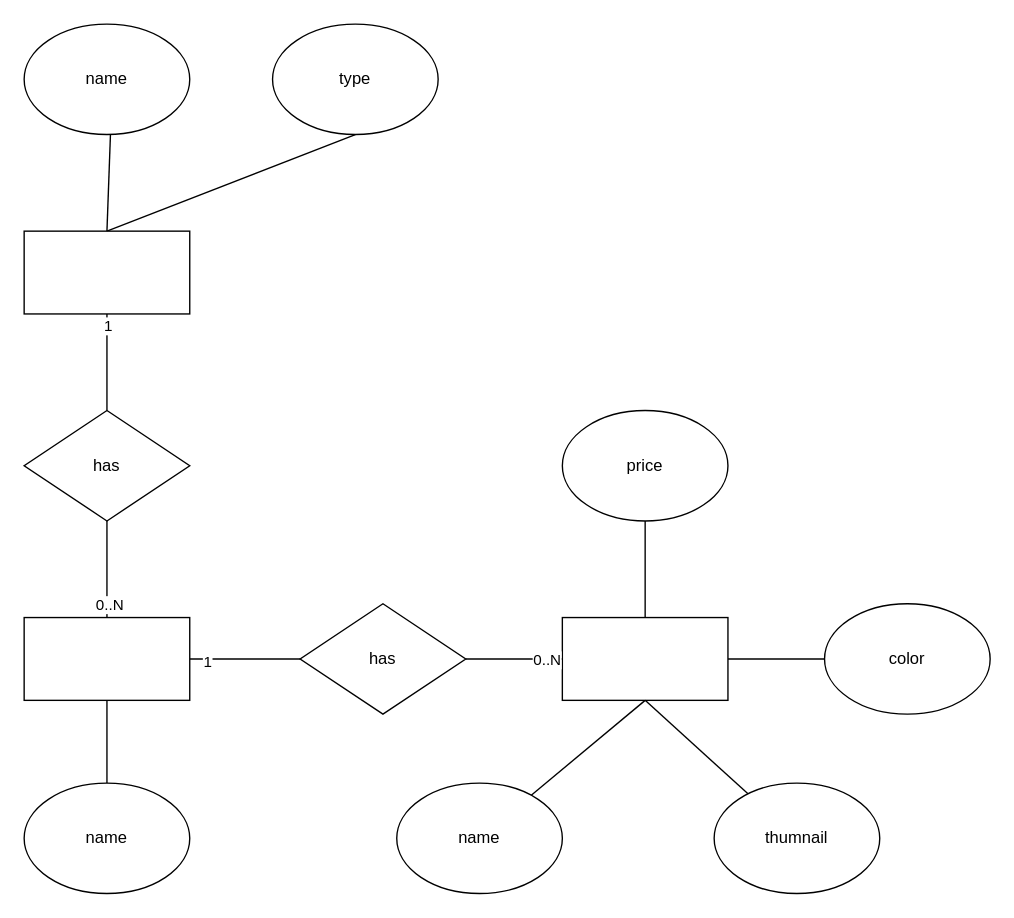
The diagram is 1014 pixels wide and 918 high, and some of its shapes have lost their labels. The box of each missing label's shape, as (x1, y1, x2, y2) in pixels:
Brand: (23, 616, 190, 700)
Product: (561, 616, 728, 700)
Product Catalouge: (23, 230, 190, 314)
